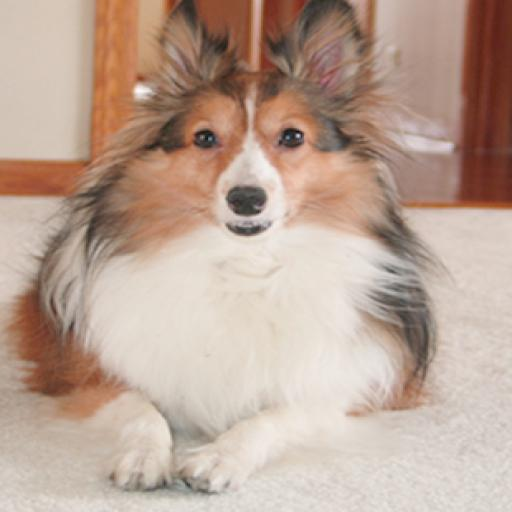dog_face: (152, 0, 365, 239)
